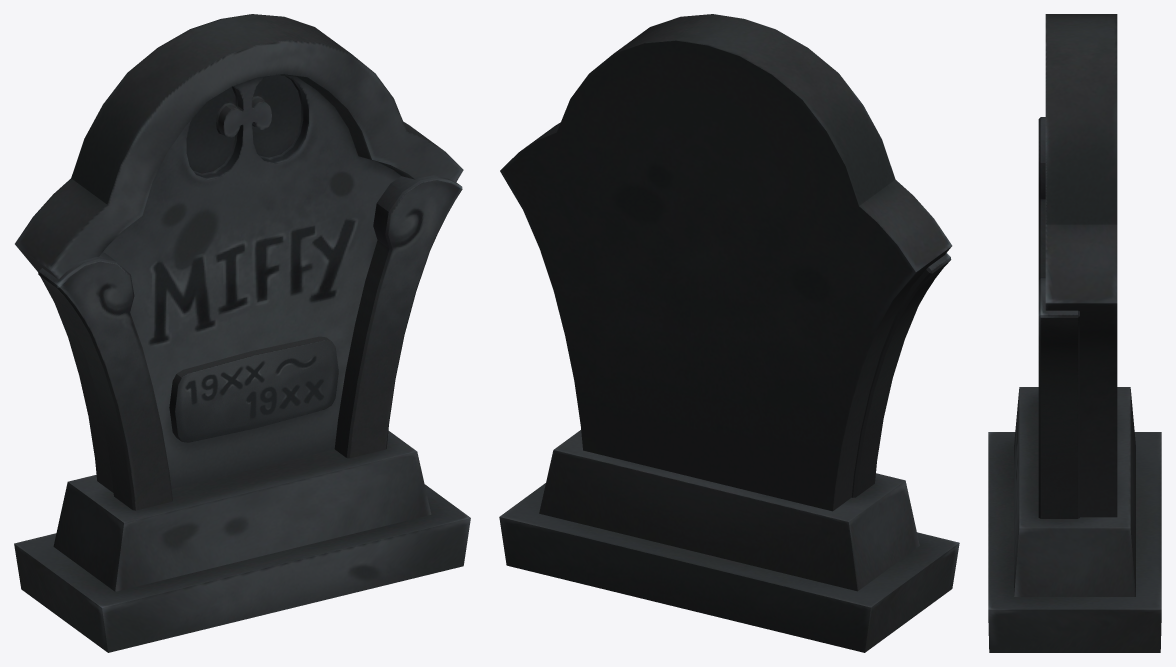
File: miffystoneA.fbx
The picture shows the model from 3 angles, left to right: view 1: azimuth 30°, elevation 25°; view 2: azimuth 150°, elevation 25°; view 3: azimuth 270°, elevation 25°; orthographic projection. The views are drawn at different scales.
Parts seen in each view (by area): view 1: miffystone_001; view 2: miffystone_001; view 3: miffystone_001.
Part boxes in pixels (x1=…): miffystone_001: x1=14, y1=14, x2=470, y2=652; miffystone_001: x1=499, y1=14, x2=959, y2=652; miffystone_001: x1=988, y1=14, x2=1161, y2=652.
Bounding box in the file's own units: 159 × 200 × 58.72.
